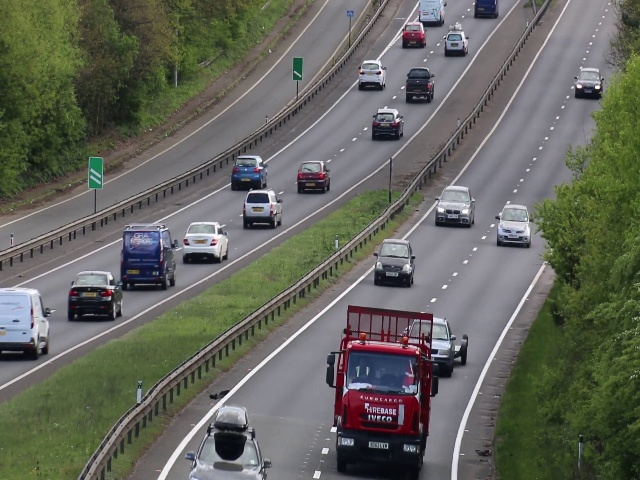car: (334, 327, 425, 476), (123, 221, 178, 293), (1, 286, 52, 356), (67, 269, 126, 324), (190, 437, 261, 480), (373, 237, 416, 287), (183, 219, 230, 264), (433, 182, 474, 230), (495, 203, 531, 248), (240, 191, 284, 227), (431, 316, 453, 377), (400, 66, 436, 102), (295, 159, 332, 193), (232, 156, 268, 190), (369, 106, 404, 140), (572, 63, 603, 101), (355, 58, 387, 91), (400, 21, 426, 48), (443, 31, 470, 54)
